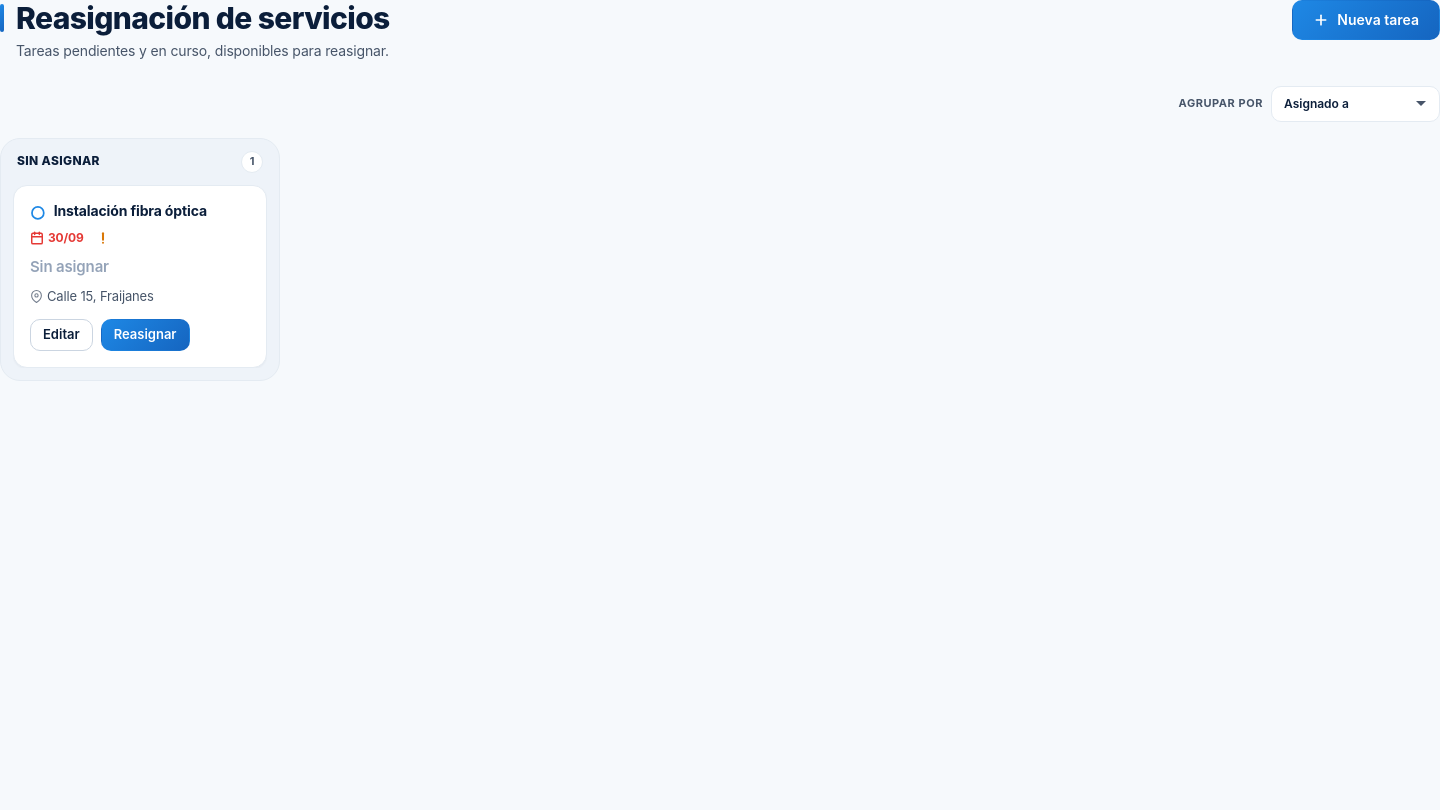
Test case: ReasignacionPage — cambio de técnico › no ofrece esa opción si la tarea ya está sin asignar
The image size is (1440, 810).
What coordinates should you click on to do the following:
click the button "Reasignar"
I would click on:
 (145, 335)
Its box is [101,319,190,351].
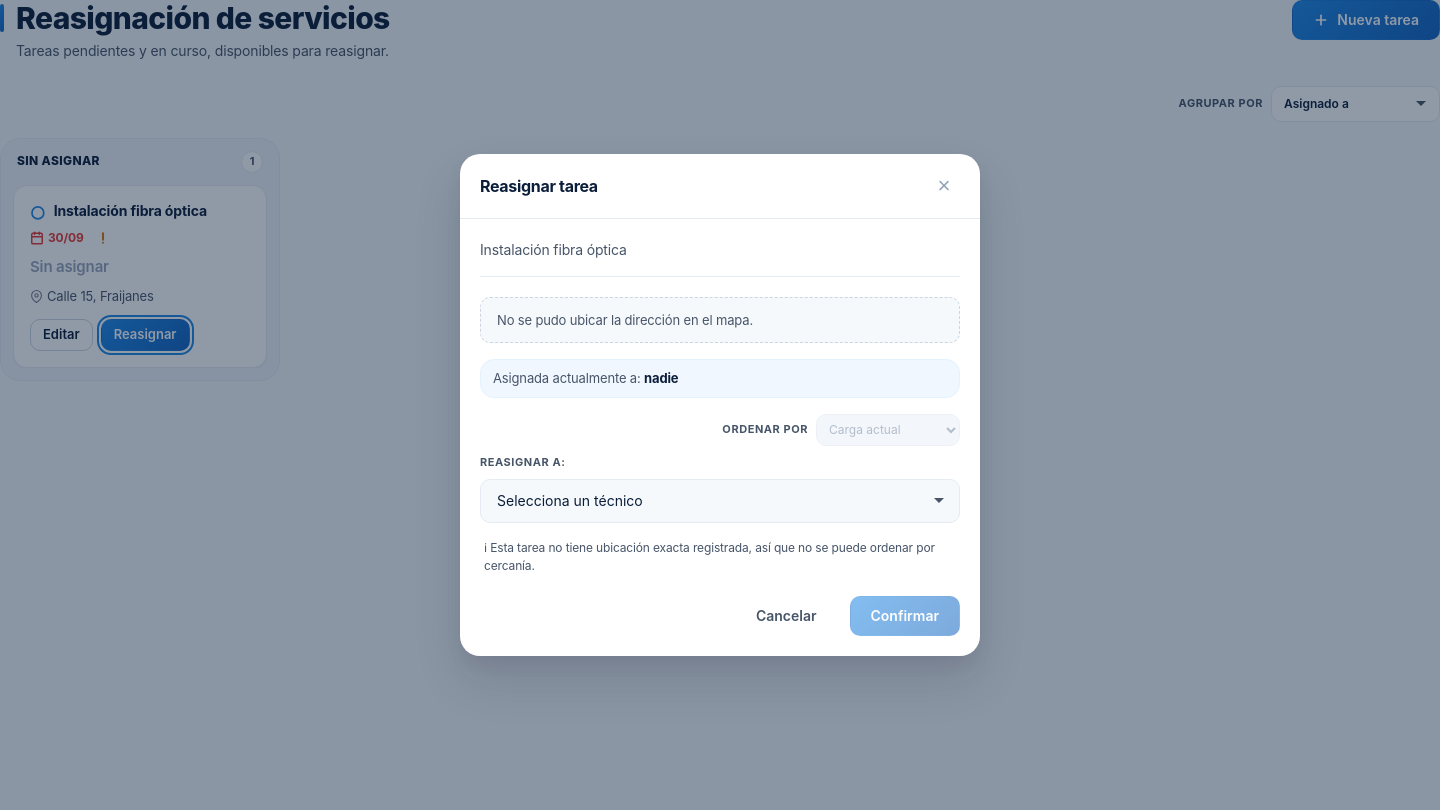
Result: the dropdown labelled "Reasignar a:" is shown at [480,479,960,523]
